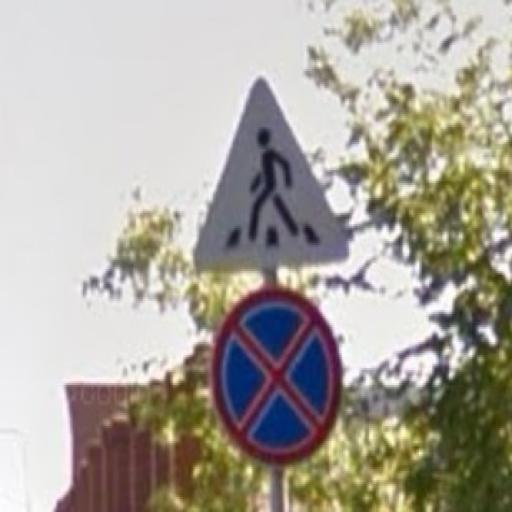traffic_sign: (193, 76, 351, 270), (211, 285, 346, 468)
